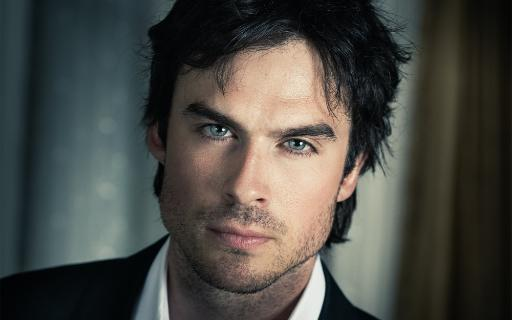left_eye: (276, 137, 322, 157)
left_lip_corner: (263, 232, 281, 246)
right_eye: (194, 122, 238, 141)
right_lip_corner: (204, 224, 220, 238)
